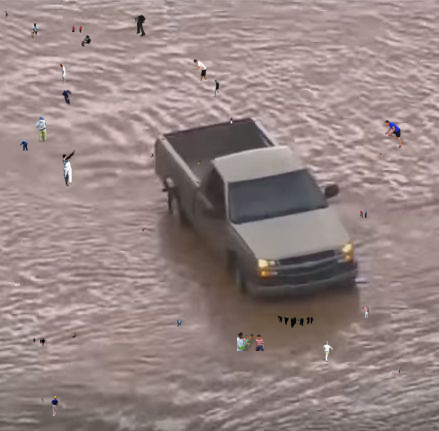Human: (275, 314, 314, 328), (384, 120, 402, 149), (33, 396, 59, 416), (62, 150, 76, 187), (237, 332, 264, 351), (155, 382, 179, 400), (192, 59, 208, 83), (131, 14, 146, 37), (35, 116, 47, 142), (322, 341, 335, 362), (62, 90, 72, 111), (213, 80, 223, 97), (81, 35, 94, 47), (31, 22, 39, 38), (60, 63, 66, 84), (33, 338, 47, 346), (361, 305, 369, 318), (19, 140, 28, 151), (72, 25, 82, 33), (177, 317, 183, 327), (360, 210, 367, 218), (72, 332, 79, 338), (379, 150, 383, 159), (142, 228, 146, 235), (198, 159, 201, 167), (5, 11, 8, 19), (230, 117, 233, 125), (150, 153, 154, 158), (412, 48, 415, 54), (398, 367, 401, 373)
